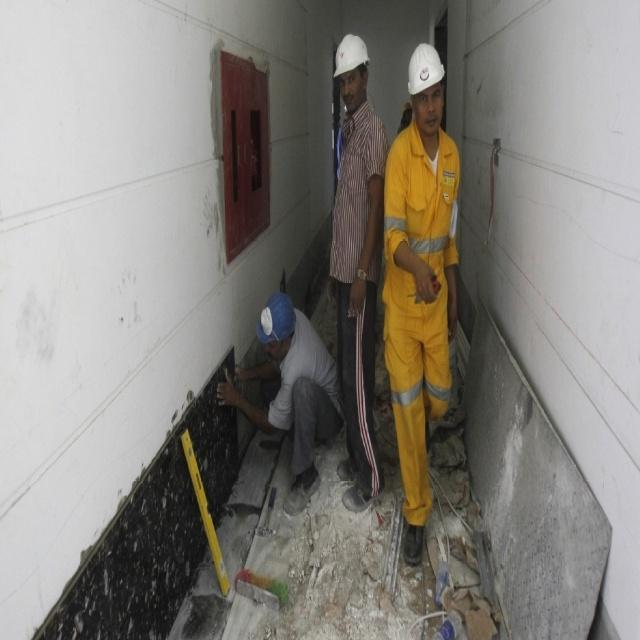helmet: (407, 56, 443, 180), (335, 44, 370, 151), (258, 392, 295, 480)
vest: (385, 178, 472, 462)
